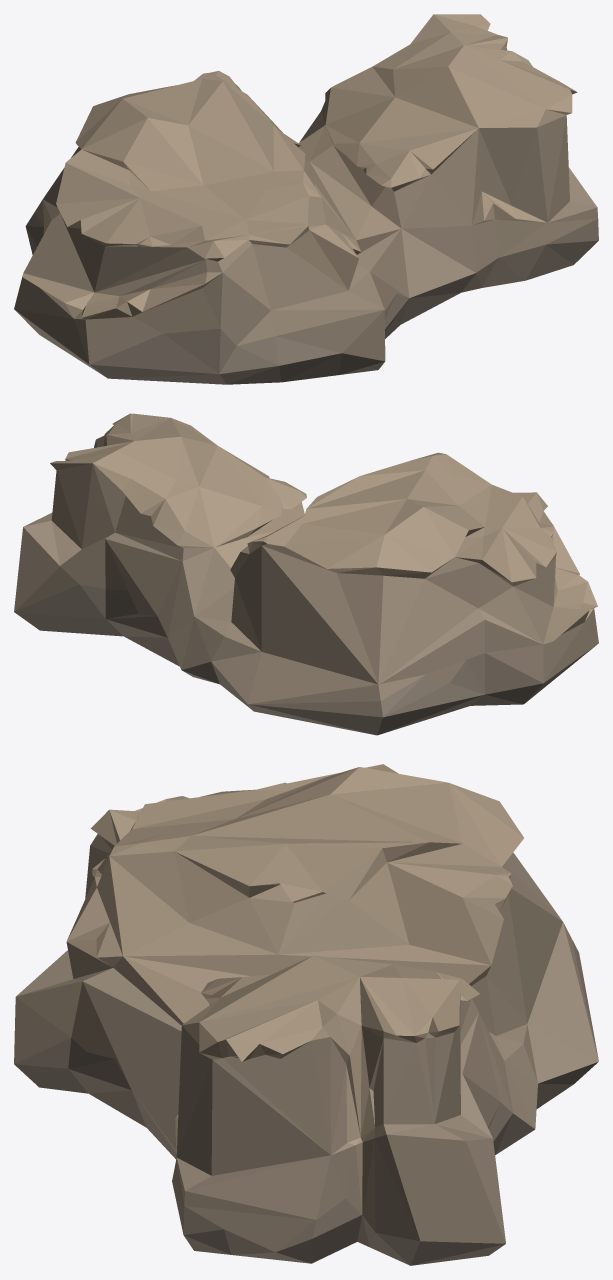
File: SM_Env_Rock_05.fbx
The picture shows the model from 3 angles, top to bottom: view 1: azimuth 30°, elevation 25°; view 2: azimuth 150°, elevation 25°; view 3: azimuth 270°, elevation 25°; orthographic projection. The views are drawn at different scales.
Parts seen in each view (by area): view 1: SM_Env_Rock_05; view 2: SM_Env_Rock_05; view 3: SM_Env_Rock_05.
Boxes of the visible parts, box(x1,y1,x2,y2) form: SM_Env_Rock_05: box(14, 14, 598, 384); SM_Env_Rock_05: box(14, 413, 598, 735); SM_Env_Rock_05: box(14, 764, 598, 1265).
Bounding box in the file's own units: 0.0294 × 0.00981 × 0.0208.
Materials: 1 (1 with a texture image).
